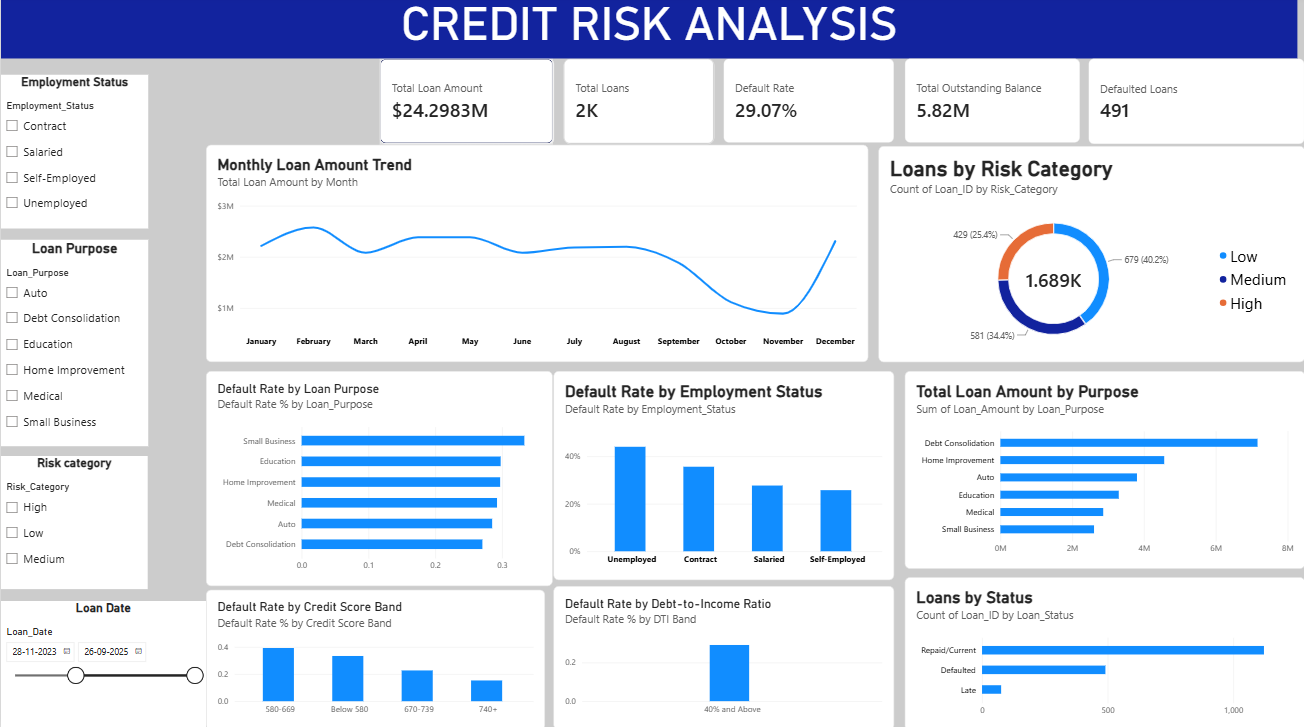

This screenshot's page, from the dashboard's own definition file:
{"tool":"powerbi","page":{"name":"Page 1","canvas":[1920,1080],"ordinal":0},"visuals":[{"type":"cardVisual","fields":{"Data":["credit_risk_dataset.Total Loans"]},"box":[374.6,92.3,380,141.2],"z":0},{"type":"cardVisual","fields":{"Data":["credit_risk_dataset.Total Loan Amount"]},"box":[0,92.3,374.6,141.2],"z":1},{"type":"cardVisual","fields":{"Data":["credit_risk_dataset.Default Rate"]},"box":[754.6,92.3,334.8,141.2],"z":2},{"type":"donutChart","title":"Loans by Risk Category","fields":{"Category":["credit_risk_dataset.Risk_Category"],"Y":["CountNonNull(credit_risk_dataset.Loan_ID)"]},"box":[0,767.3,626.1,273.3],"z":3},{"type":"clusteredBarChart","title":"Loans by Status","fields":{"Category":["credit_risk_dataset.Loan_Status"],"Y":["CountNonNull(credit_risk_dataset.Loan_ID)"]},"box":[0,517.6,742,220.8],"z":4},{"type":"textbox","title":"CREDIT RISK ANALYSIS","box":[0,0,1909.2,92.3],"z":5},{"type":"cardVisual","fields":{"Data":["credit_risk_dataset.Defaulted Loans"]},"box":[1436.9,92.3,483.2,141.2],"z":6},{"type":"cardVisual","fields":{"Data":["credit_risk_dataset.Total Outstanding Balance"]},"box":[1089.4,92.3,347.5,141.2],"z":7},{"type":"clusteredBarChart","title":"Total Loan Amount by Purpose","fields":{"Category":["credit_risk_dataset.Loan_Purpose"],"Y":["Sum(credit_risk_dataset.Loan_Amount)"]},"box":[1293.9,570,626.1,510.3],"z":8},{"type":"clusteredColumnChart","title":"Default Rate by Employment Status","fields":{"Category":["credit_risk_dataset.Employment_Status"],"Y":["credit_risk_dataset.Default Rate"]},"box":[1293.9,251.5,626.1,298.6],"z":9},{"type":"lineChart","title":"Monthly Loan Amount Trend","fields":{"Category":["credit_risk_dataset.Loan_Date.Variation.Date Hierarchy.Month"],"Y":["credit_risk_dataset.Total Loan Amount"]},"box":[656.9,767.3,618.9,275.1],"z":10},{"type":"clusteredColumnChart","title":"Default Rate by Credit Score","fields":{"Category":["credit_risk_dataset.Credit_Score"],"Y":["credit_risk_dataset.Default Rate"]},"box":[754.6,401.7,521.2,336.6],"z":11},{"type":"slicer","fields":{"Values":["credit_risk_dataset.Loan_Date"]},"box":[656.9,233.4,497.7,148.4],"z":12},{"type":"slicer","fields":{"Values":["credit_risk_dataset.Risk_Category"]},"box":[445.2,233.4,181,253.4],"z":13},{"type":"slicer","fields":{"Values":["credit_risk_dataset.Employment_Status"]},"box":[21.7,233.4,197.3,253.4],"z":14},{"type":"slicer","fields":{"Values":["credit_risk_dataset.Loan_Purpose"]},"box":[247.9,233.4,170.1,253.4],"z":15}]}

Visuals, with their boxes in screenshot pixels (x1, y1, x2, y2), scaled from the page's 1920x1080 canvas onto the 1304x727 screenshot:
cardVisual - credit_risk_dataset.Total Loans: (254,62,512,157)
cardVisual - credit_risk_dataset.Total Loan Amount: (0,62,254,157)
cardVisual - credit_risk_dataset.Default Rate: (512,62,740,157)
"Loans by Risk Category" donutChart: (0,517,425,700)
"Loans by Status" clusteredBarChart: (0,348,504,497)
"CREDIT RISK ANALYSIS" textbox: (0,0,1297,62)
cardVisual - credit_risk_dataset.Defaulted Loans: (976,62,1303,157)
cardVisual - credit_risk_dataset.Total Outstanding Balance: (740,62,976,157)
"Total Loan Amount by Purpose" clusteredBarChart: (879,384,1303,726)
"Default Rate by Employment Status" clusteredColumnChart: (879,169,1303,370)
"Monthly Loan Amount Trend" lineChart: (446,517,866,702)
"Default Rate by Credit Score" clusteredColumnChart: (512,270,866,497)
slicer - credit_risk_dataset.Loan_Date: (446,157,784,257)
slicer - credit_risk_dataset.Risk_Category: (302,157,425,328)
slicer - credit_risk_dataset.Employment_Status: (15,157,149,328)
slicer - credit_risk_dataset.Loan_Purpose: (168,157,284,328)
